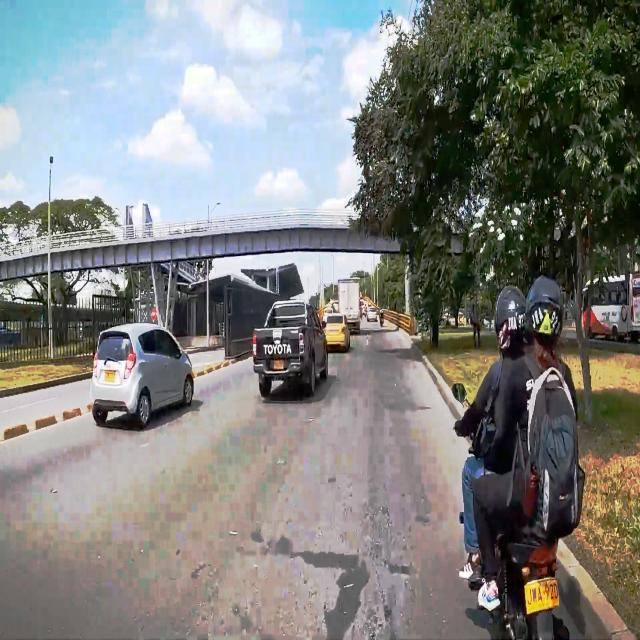license_plate: (523, 576, 560, 615)
